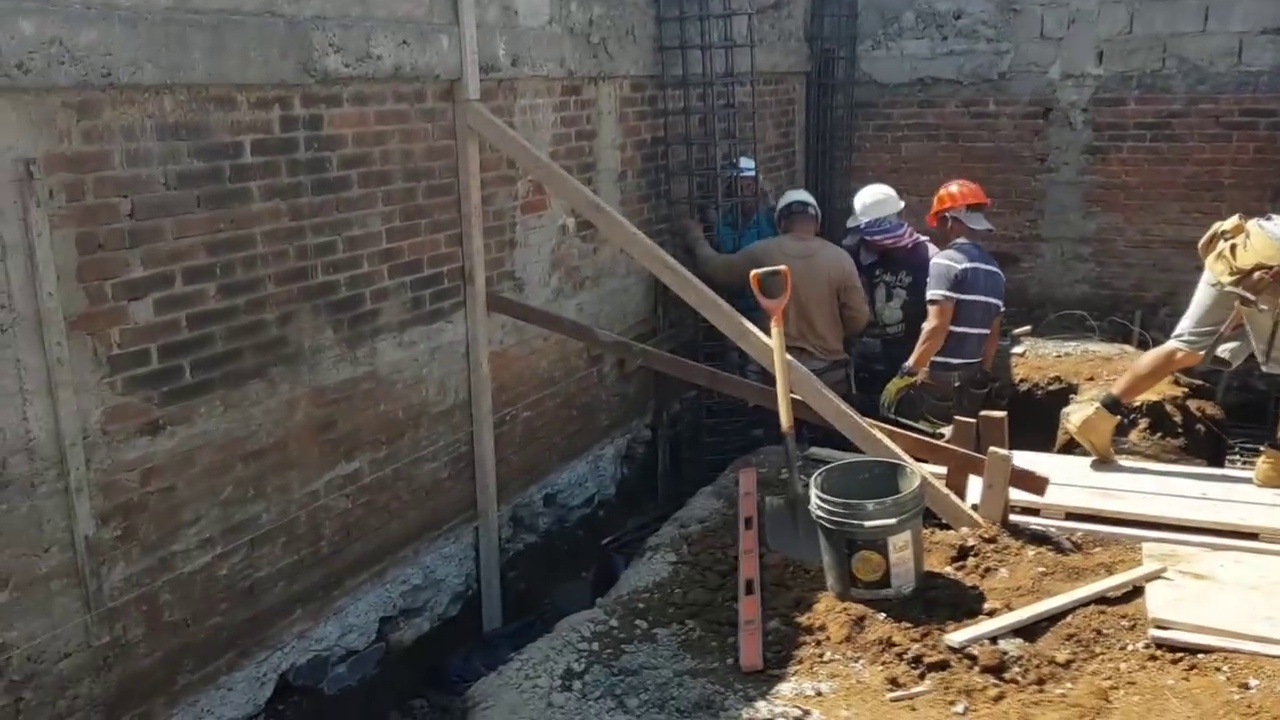helmet: (926, 179, 991, 228), (848, 177, 906, 228), (777, 186, 824, 224), (731, 158, 760, 179)
helmet-on: (926, 179, 993, 245), (846, 177, 907, 248), (776, 186, 823, 241), (731, 157, 760, 189)
person: (1071, 195, 1279, 470), (735, 186, 863, 406), (898, 178, 1004, 436), (848, 177, 933, 387), (713, 155, 775, 252)
